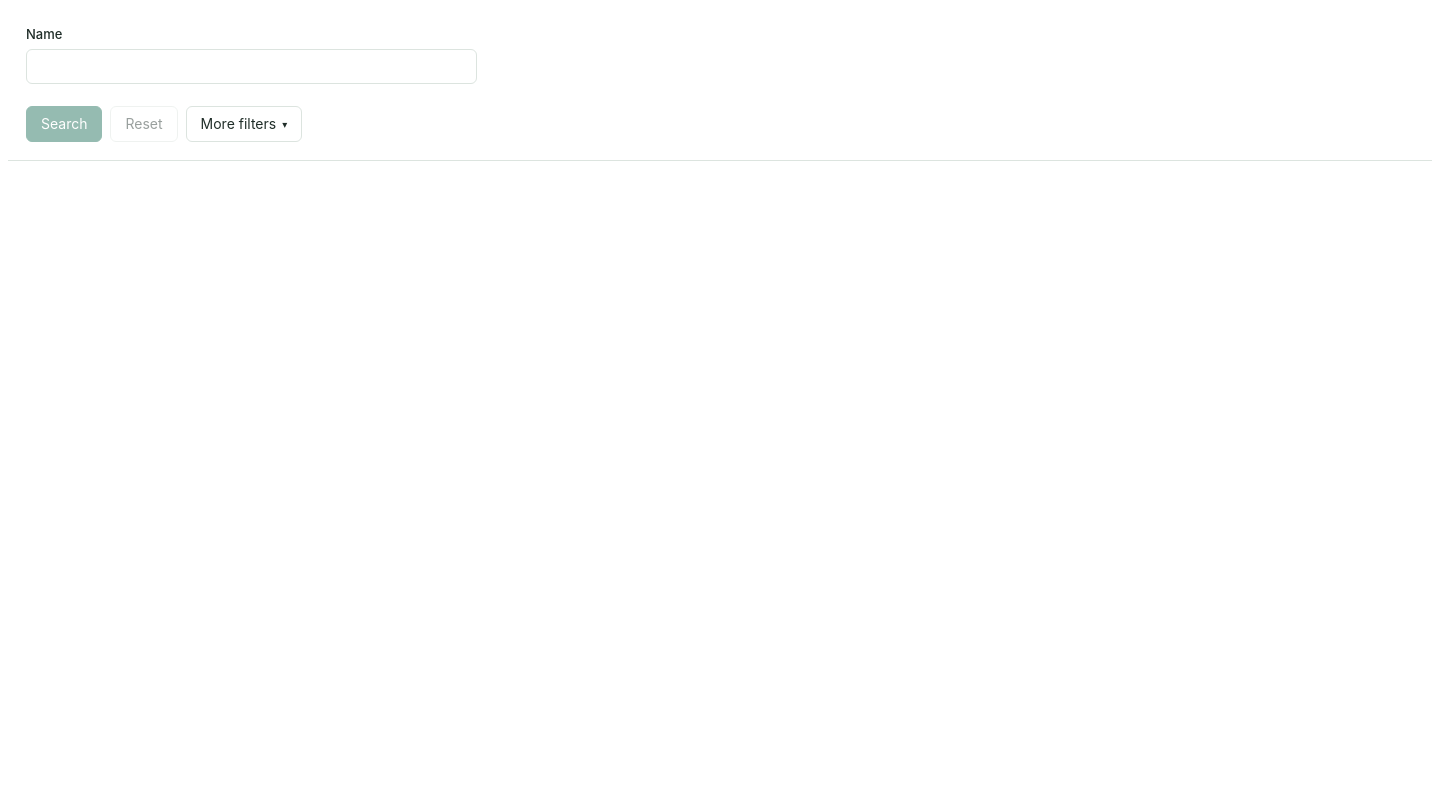
Test case: popover form respects disabled
The image size is (1440, 810).
Click the button with test id "rac-more-filters".
click(244, 124)  # box 186,106 -> 302,142
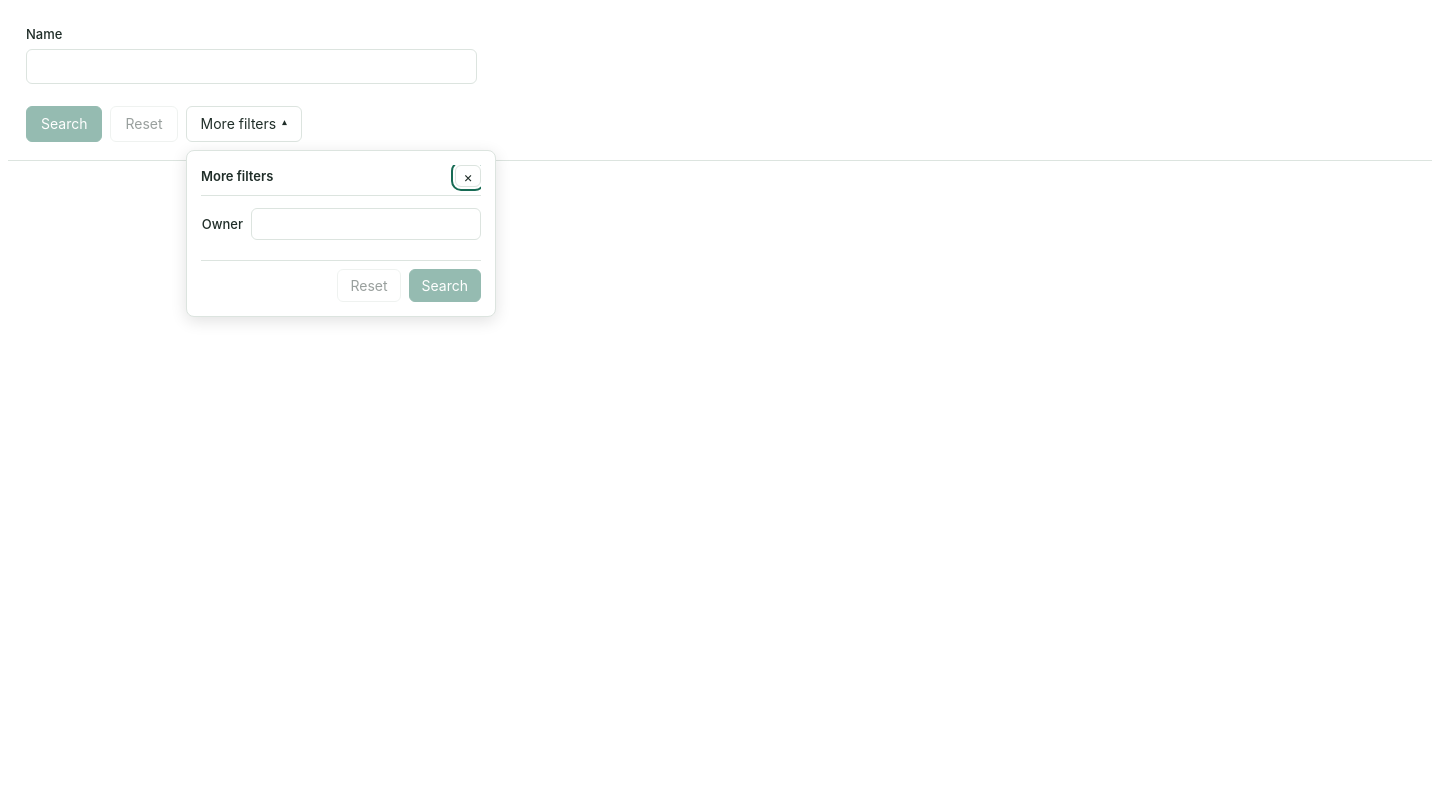
Expected: the field labelled "Owner" is disabled, 251,208 -> 481,240
Now the button named "Close" is shown, box 455,165 -> 481,187
Now the button "Search" below "Owner" is disabled, box 408,269 -> 481,302
